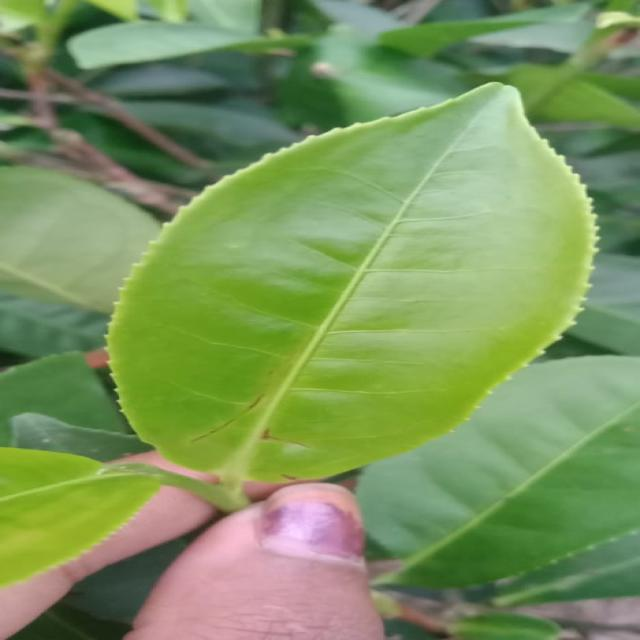Category B(2-4 days): (96, 76, 608, 488)
